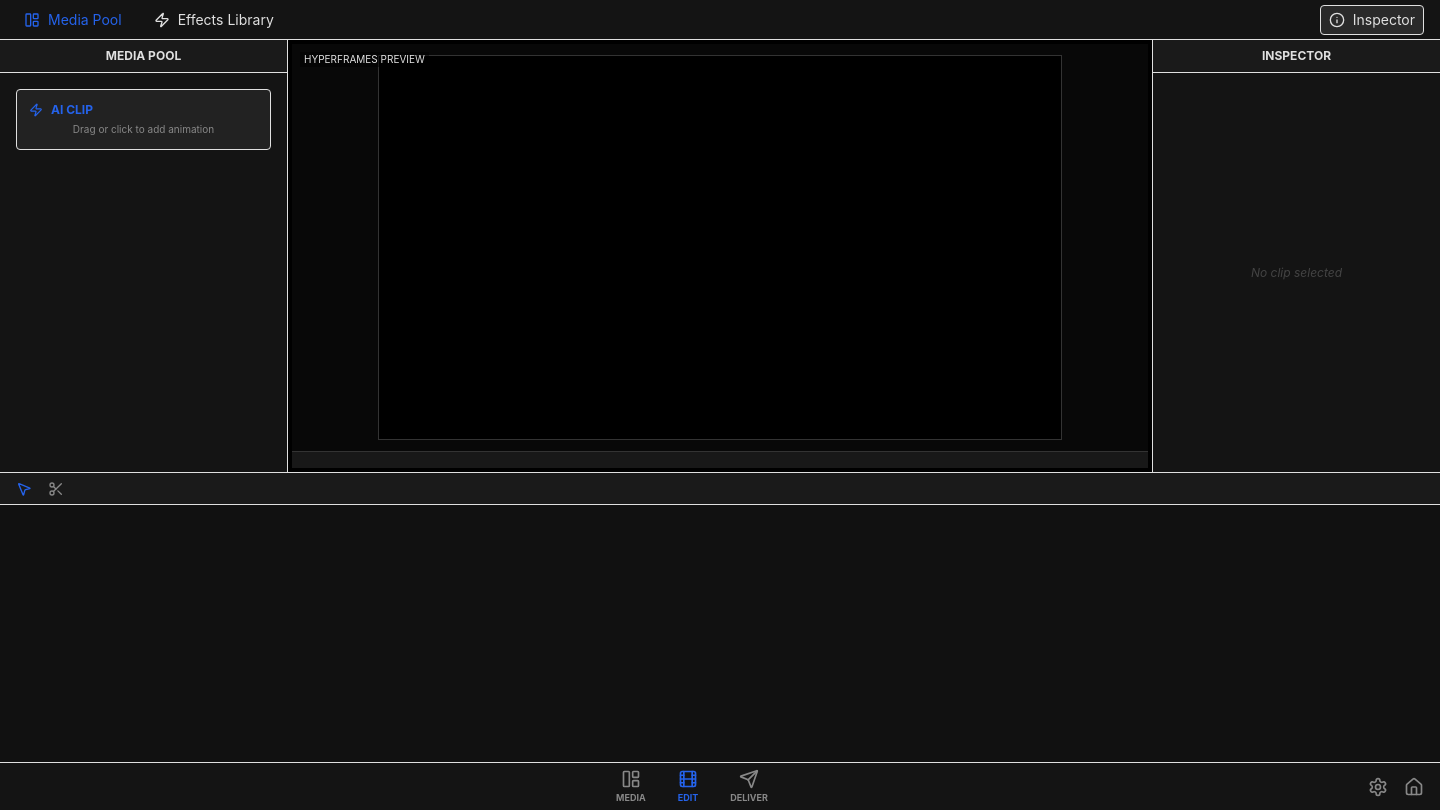
can add a clip to the timeline
Click the text "Drag or click to add animation" at (144, 129), box [73,123,214,135]
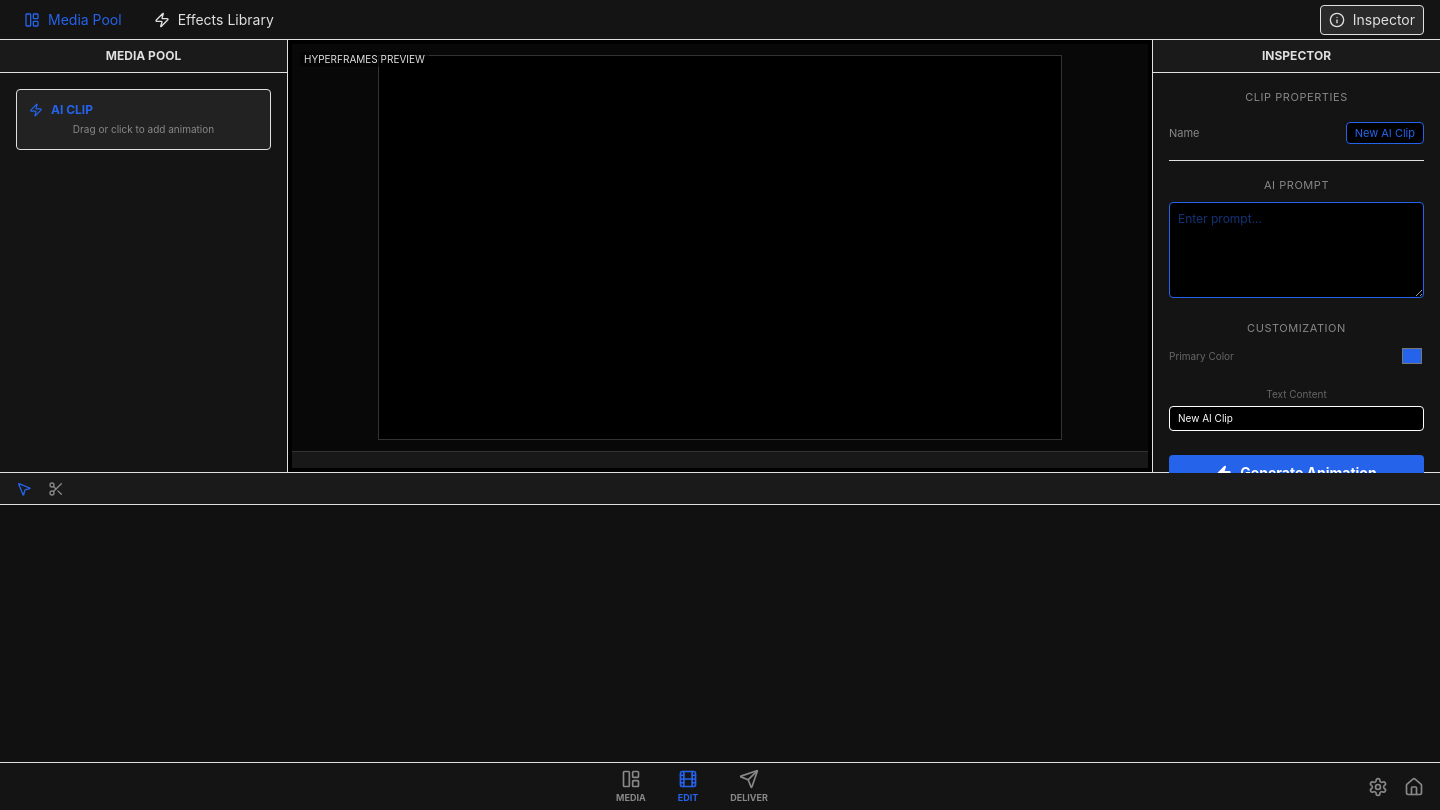
Result: the text "New AI Clip" is shown at [1346,122,1424,144]
